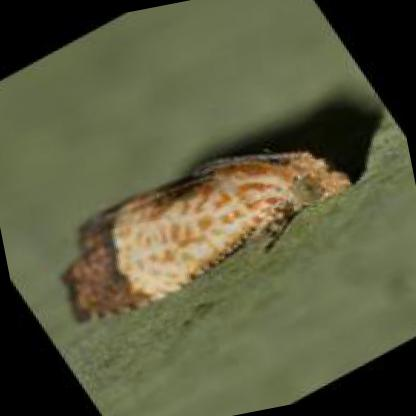Leaf Webber: (58, 142, 355, 326)
